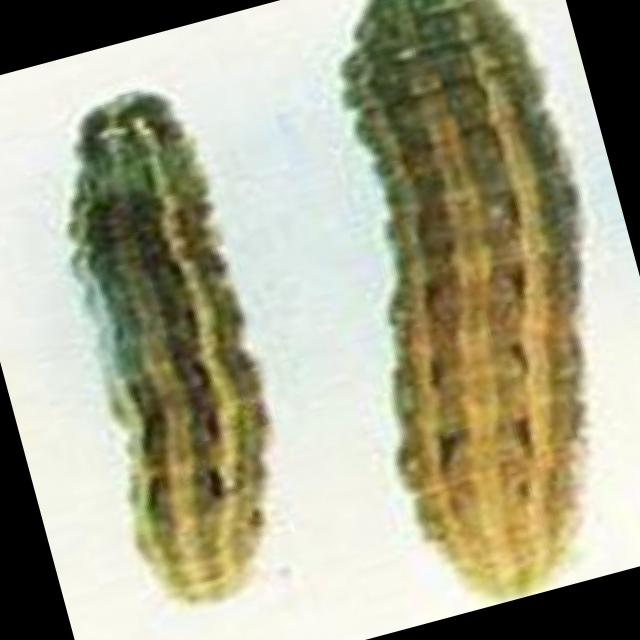armyworm: (261, 1, 640, 622), (1, 57, 331, 640)
